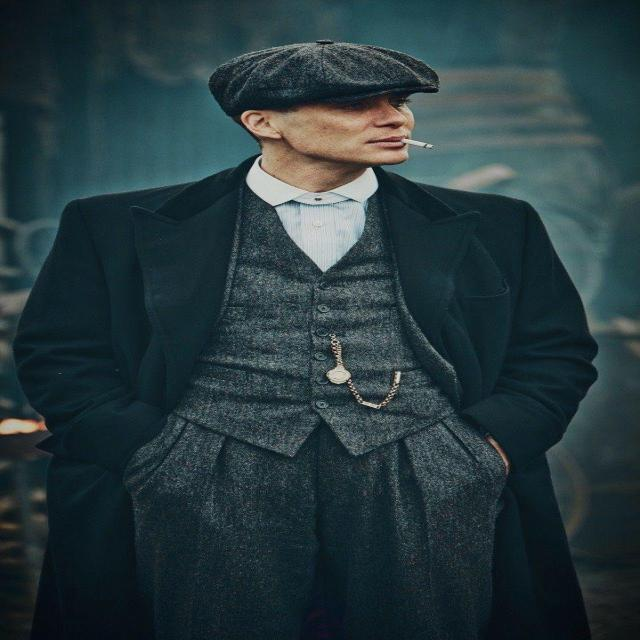smoking: (394, 135, 457, 154)
